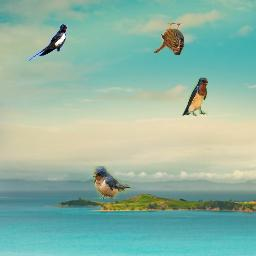Sparrow: (153, 23, 184, 55)
Swallow: (28, 24, 68, 61), (93, 166, 133, 199), (182, 77, 208, 117)
